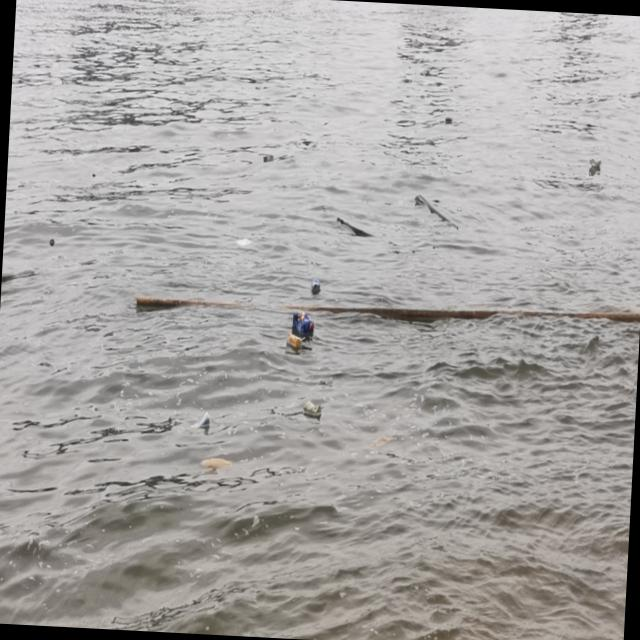can: (196, 413, 213, 430), (312, 277, 323, 293), (447, 117, 453, 123)
foam: (590, 156, 602, 171), (632, 89, 640, 99)
